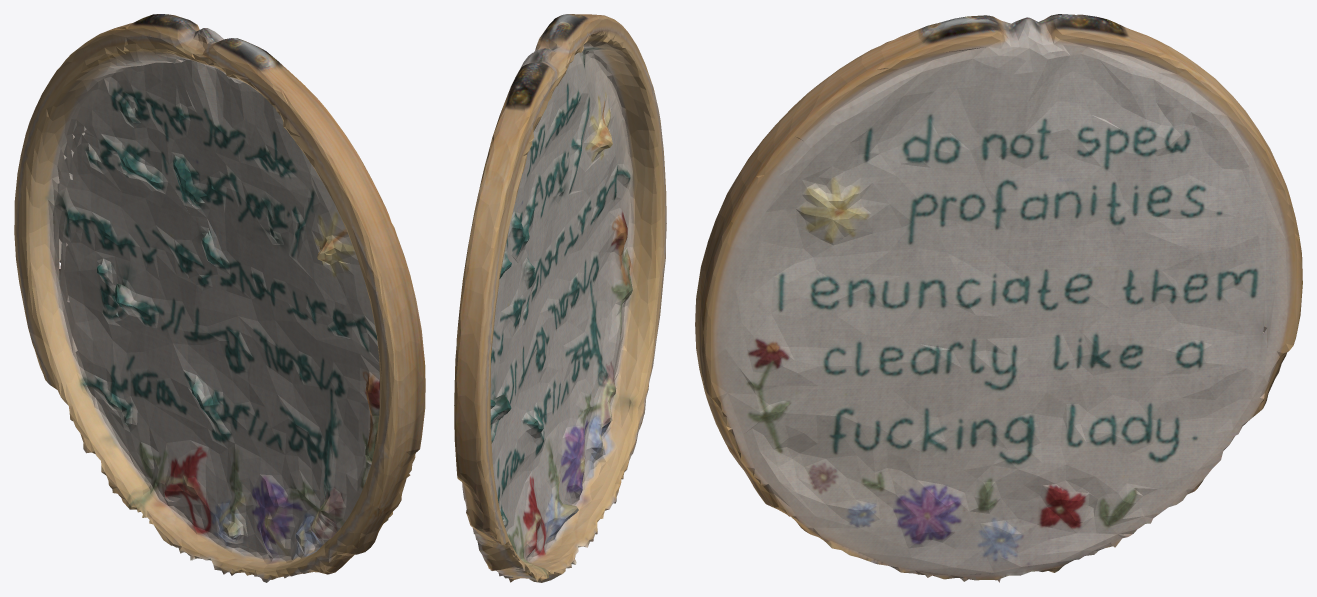
3 views of the same model, side by side, from view 1: azimuth 30°, elevation 25°; view 2: azimuth 150°, elevation 25°; view 3: azimuth 270°, elevation 25° (orthographic). The views are drawn at different scales.
Visible parts, largest first — view 1: Stickerei Profanities_7k_2k; view 2: Stickerei Profanities_7k_2k; view 3: Stickerei Profanities_7k_2k.
Part boxes in pixels (<box>): Stickerei Profanities_7k_2k: <box>14,14,425,582</box>; Stickerei Profanities_7k_2k: <box>454,14,666,582</box>; Stickerei Profanities_7k_2k: <box>695,14,1302,582</box>.
Size of the model in its own units: 0.0515 by 0.1949 by 0.1906.
1 material, 1 textured.
